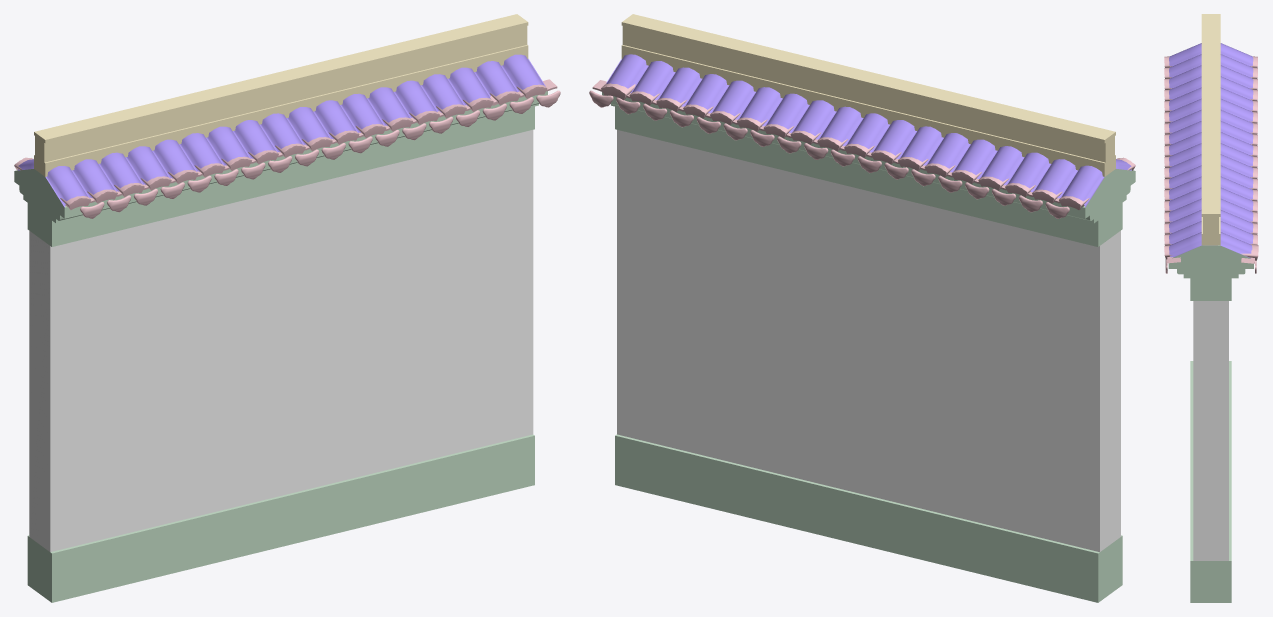
File: Wall_400x300.FBX
3 views of the same model, side by side, from view 1: azimuth 30°, elevation 25°; view 2: azimuth 150°, elevation 25°; view 3: azimuth 270°, elevation 25° (orthographic). The views are drawn at different scales.
Parts seen in each view (by area): view 1: Garden_Tile_Wall_400x300_A_LOD00; view 2: Garden_Tile_Wall_400x300_A_LOD00; view 3: Garden_Tile_Wall_400x300_A_LOD00.
Boxes of the visible parts, left/top/right/bottom form: Garden_Tile_Wall_400x300_A_LOD00: left=14, top=14, right=560, bottom=602; Garden_Tile_Wall_400x300_A_LOD00: left=589, top=14, right=1135, bottom=602; Garden_Tile_Wall_400x300_A_LOD00: left=1164, top=14, right=1258, bottom=602.
Size of what is drawn, in the model's own units: 410 by 363 by 79.78.
